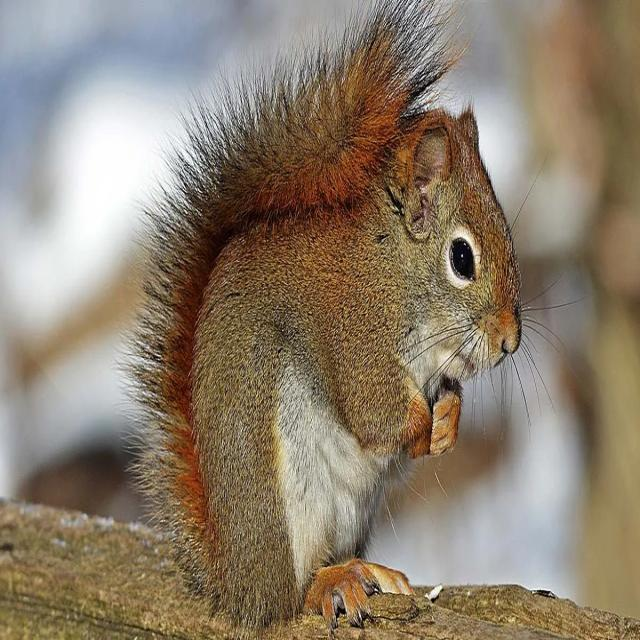Squirrel: (146, 35, 529, 620)
